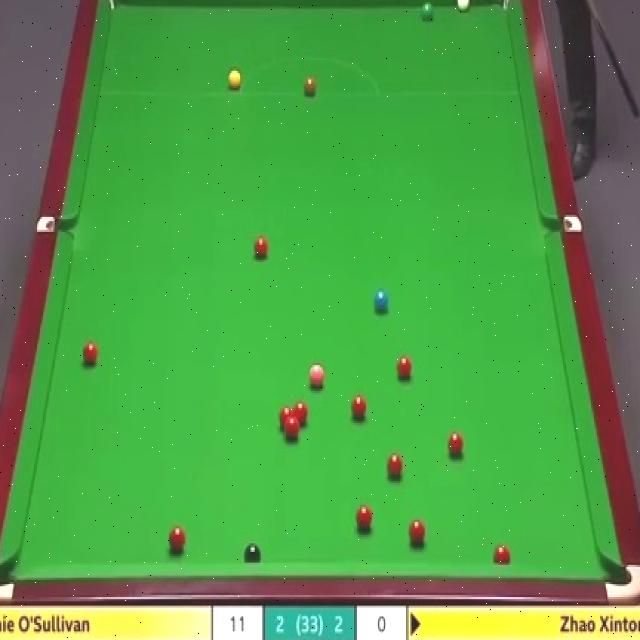black-ball: (244, 542, 264, 564)
blue-ball: (371, 291, 389, 312)
brown-ball: (304, 72, 316, 94)
green-ball: (420, 2, 435, 22)
pink-ball: (308, 364, 326, 390)
red-ball: (167, 524, 186, 553), (408, 520, 427, 548), (348, 392, 367, 419), (396, 354, 414, 382), (386, 453, 403, 481), (355, 506, 373, 532), (81, 338, 98, 364), (448, 431, 464, 458), (278, 406, 294, 432), (492, 543, 512, 562), (255, 233, 268, 262), (294, 401, 308, 427), (285, 420, 301, 440)
white-ball: (454, 0, 470, 11)
yellow-ball: (227, 71, 241, 89)
